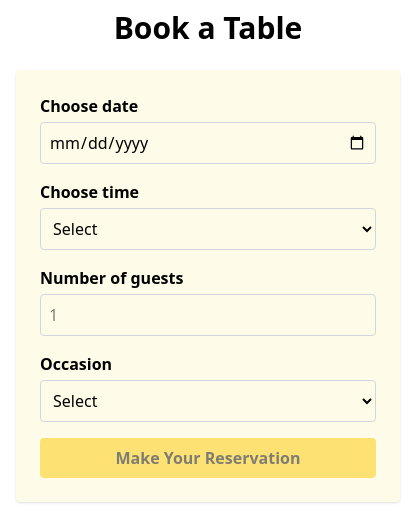
Scenario: ReservationForm Component › enables submit button when all fields are filled
Step 1. Type "2025-12-25" into the date field labelled "Choose date" → point(208, 143), box top-left (40, 122), bottom-right (376, 164)
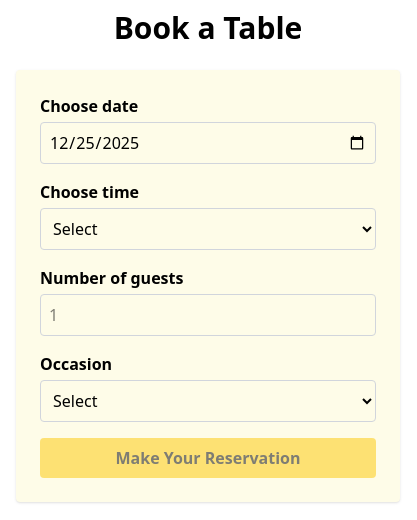
Step 2. Select "19:00" in the dropdown labelled "Choose time" → point(208, 229), box top-left (40, 208), bottom-right (376, 250)
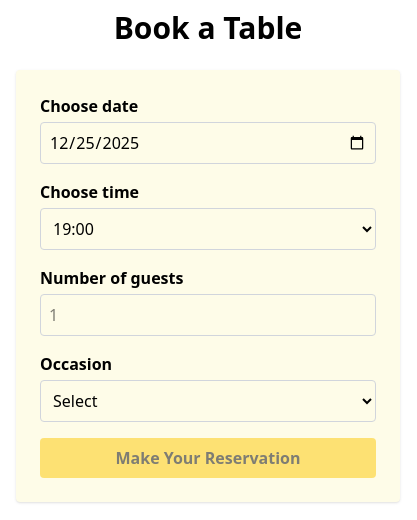
Step 3. Type "4" into the number field labelled "Number of guests" → point(208, 315), box top-left (40, 294), bottom-right (376, 336)
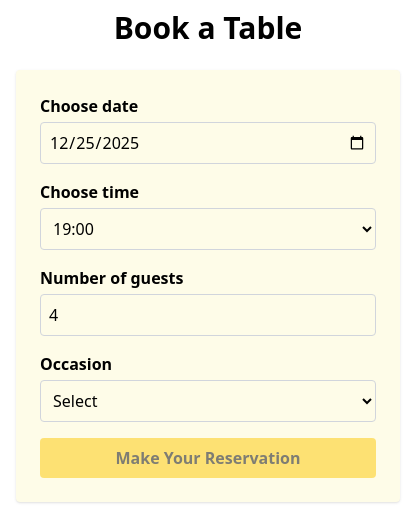
Step 4. Select "Birthday" in the dropdown labelled "Occasion" → point(208, 401), box top-left (40, 380), bottom-right (376, 422)
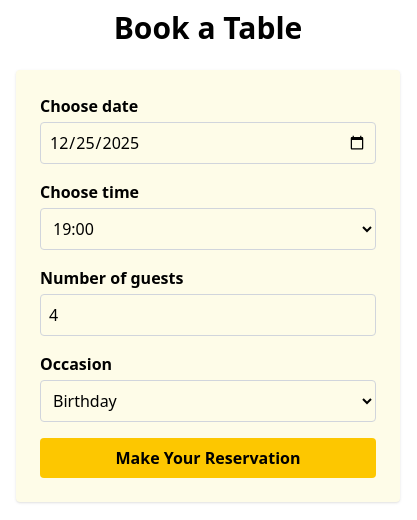
Check: the button "Make Your Reservation" is enabled, box top-left (40, 438), bottom-right (376, 478)
